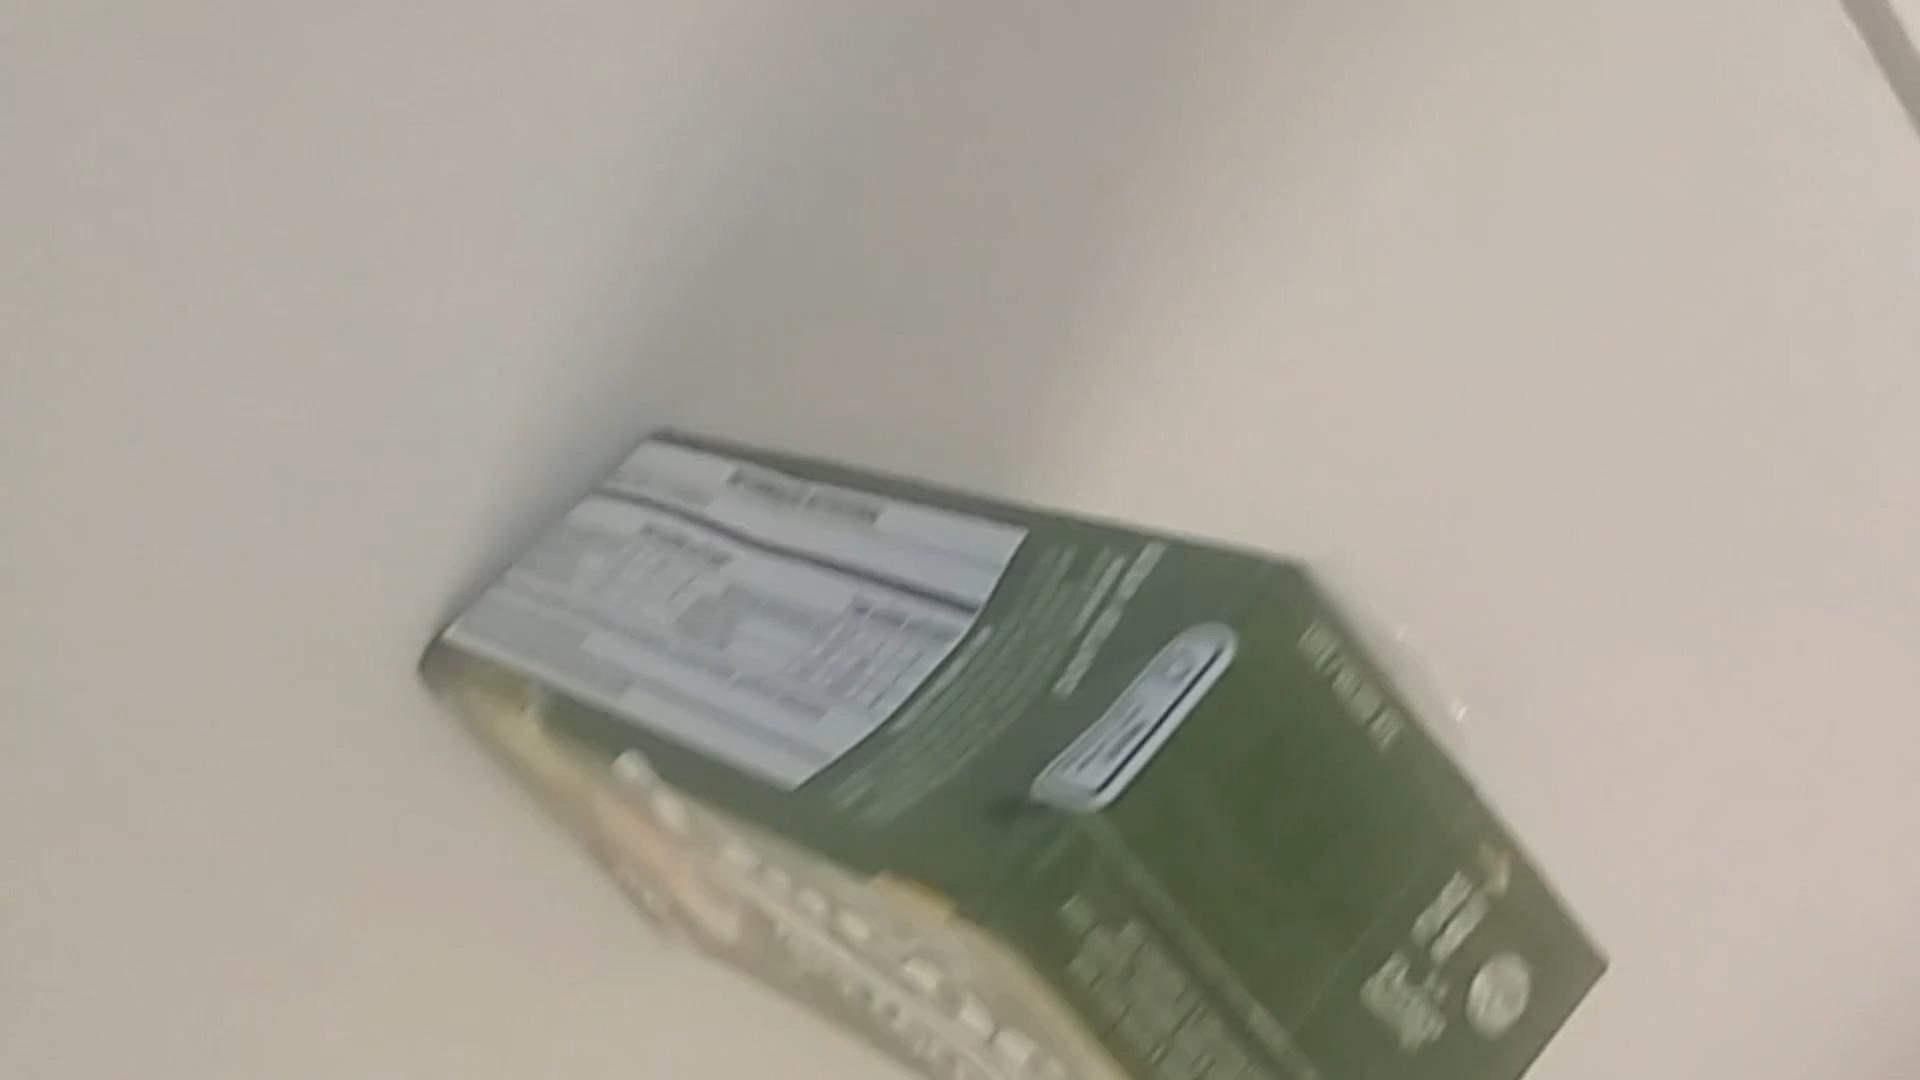coco: (425, 419, 1618, 1080)
